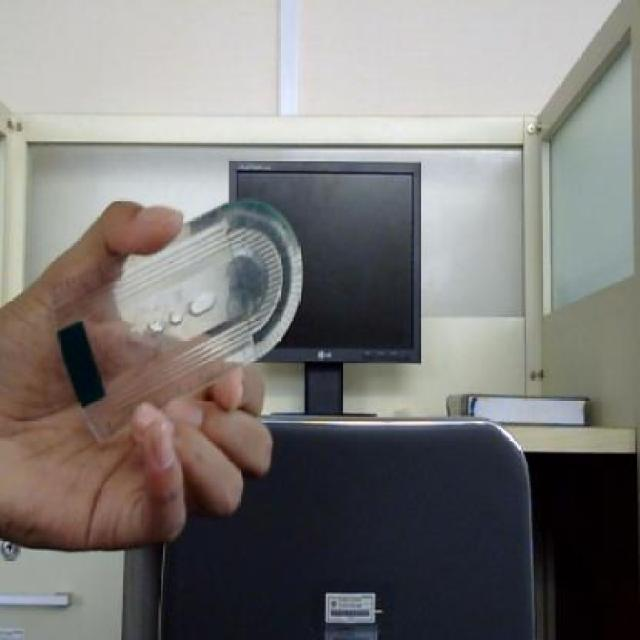Plastic: (49, 194, 309, 448)
